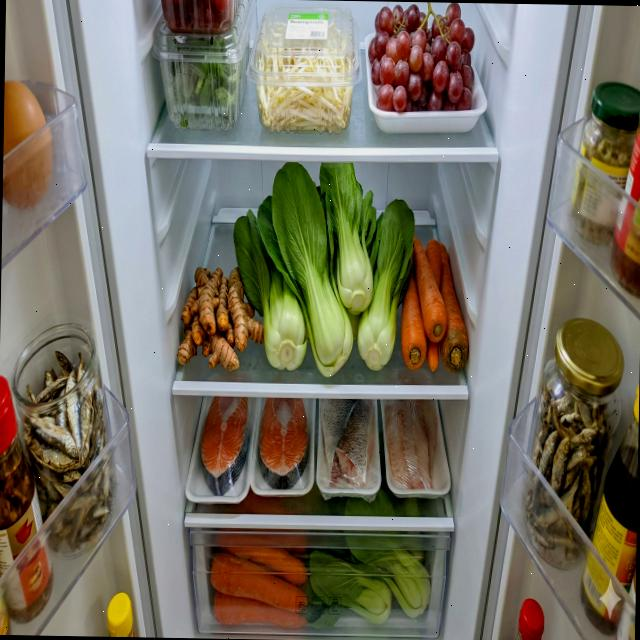anchovies: (19, 347, 114, 554), (524, 372, 616, 564)
bean_sprouts: (254, 14, 356, 134)
carrot: (209, 529, 309, 629), (400, 236, 470, 373)
egg: (2, 78, 54, 210)
fish: (200, 396, 256, 496), (318, 398, 376, 491), (382, 399, 438, 490), (257, 397, 310, 489)
grape: (366, 1, 476, 113)
pakchoy: (230, 160, 417, 380), (298, 487, 432, 632)
turmeric: (176, 266, 265, 374)
